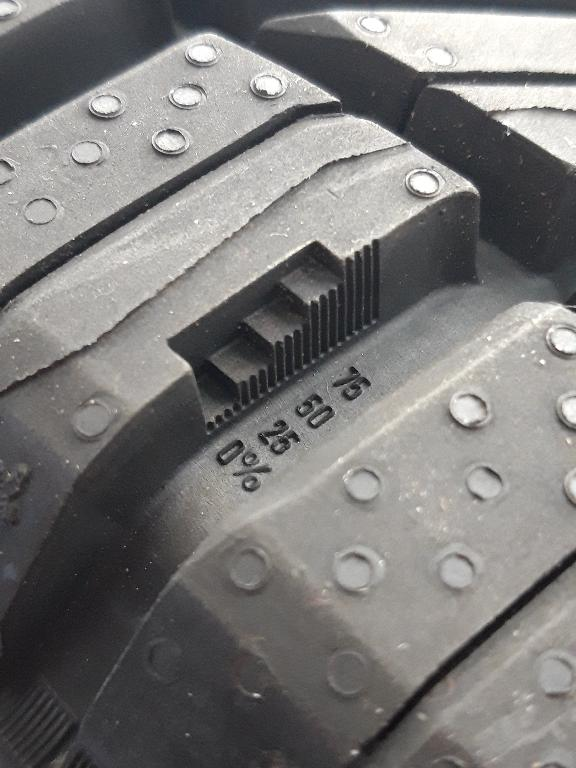temoin:100: (156, 225, 393, 445)
